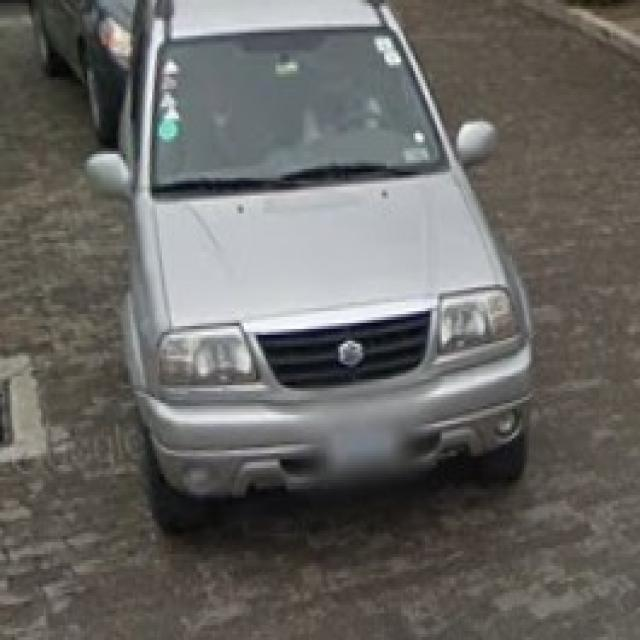cars: (108, 5, 538, 541)
